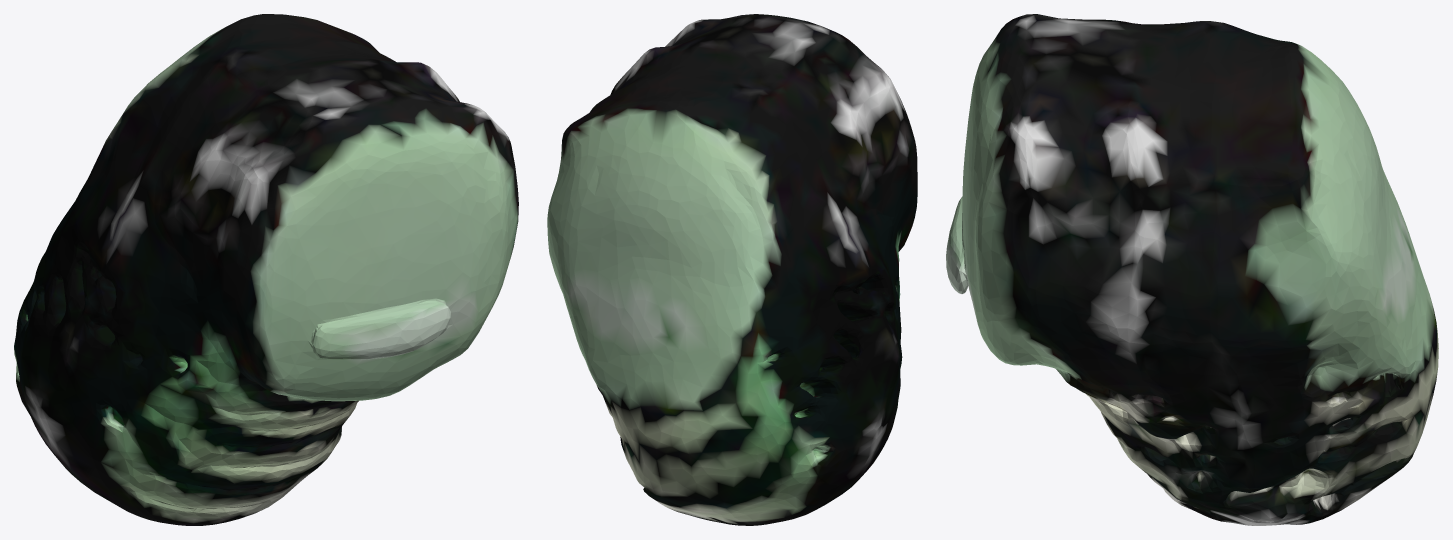
Rendered from jade_coin.glb.
The picture shows the model from 3 angles, left to right: view 1: azimuth 30°, elevation 25°; view 2: azimuth 150°, elevation 25°; view 3: azimuth 270°, elevation 25°; orthographic projection. The views are drawn at different scales.
Parts seen in each view (by area): view 1: geometry_0; view 2: geometry_0; view 3: geometry_0.
Boxes of the visible parts, x1,y1,x2,y2 form: geometry_0: (14,14,518,525); geometry_0: (547,14,917,525); geometry_0: (946,14,1438,525).
Bounding box in the file's own units: 0.4976 × 0.5938 × 0.5281.
